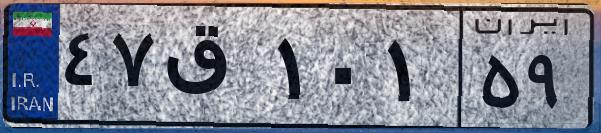0: (330, 28, 385, 110)
1: (270, 28, 330, 110), (385, 28, 445, 110)
4: (57, 26, 110, 100)
5: (475, 38, 525, 113)
7: (110, 28, 158, 98)
9: (525, 38, 570, 115)
ق: (158, 20, 270, 120)
